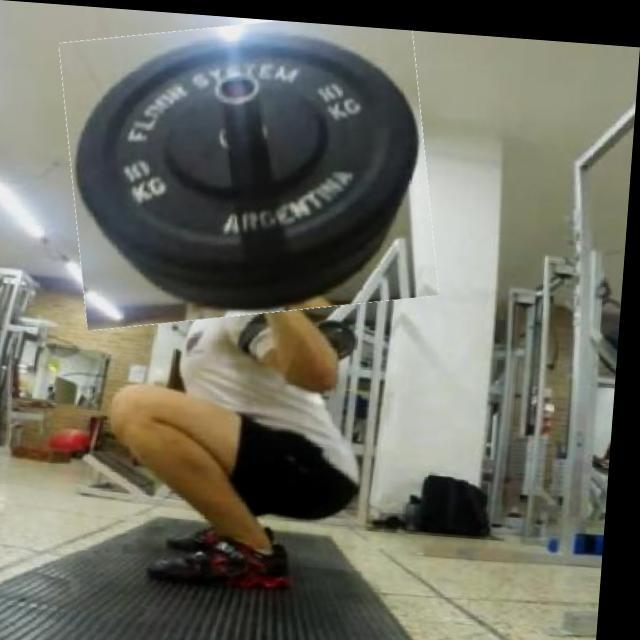barbell: (55, 5, 448, 334)
